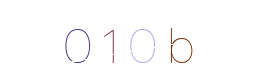0: (63, 0, 143, 80), (95, 0, 175, 80)
1: (87, 0, 167, 80)
B: (137, 0, 217, 80)
